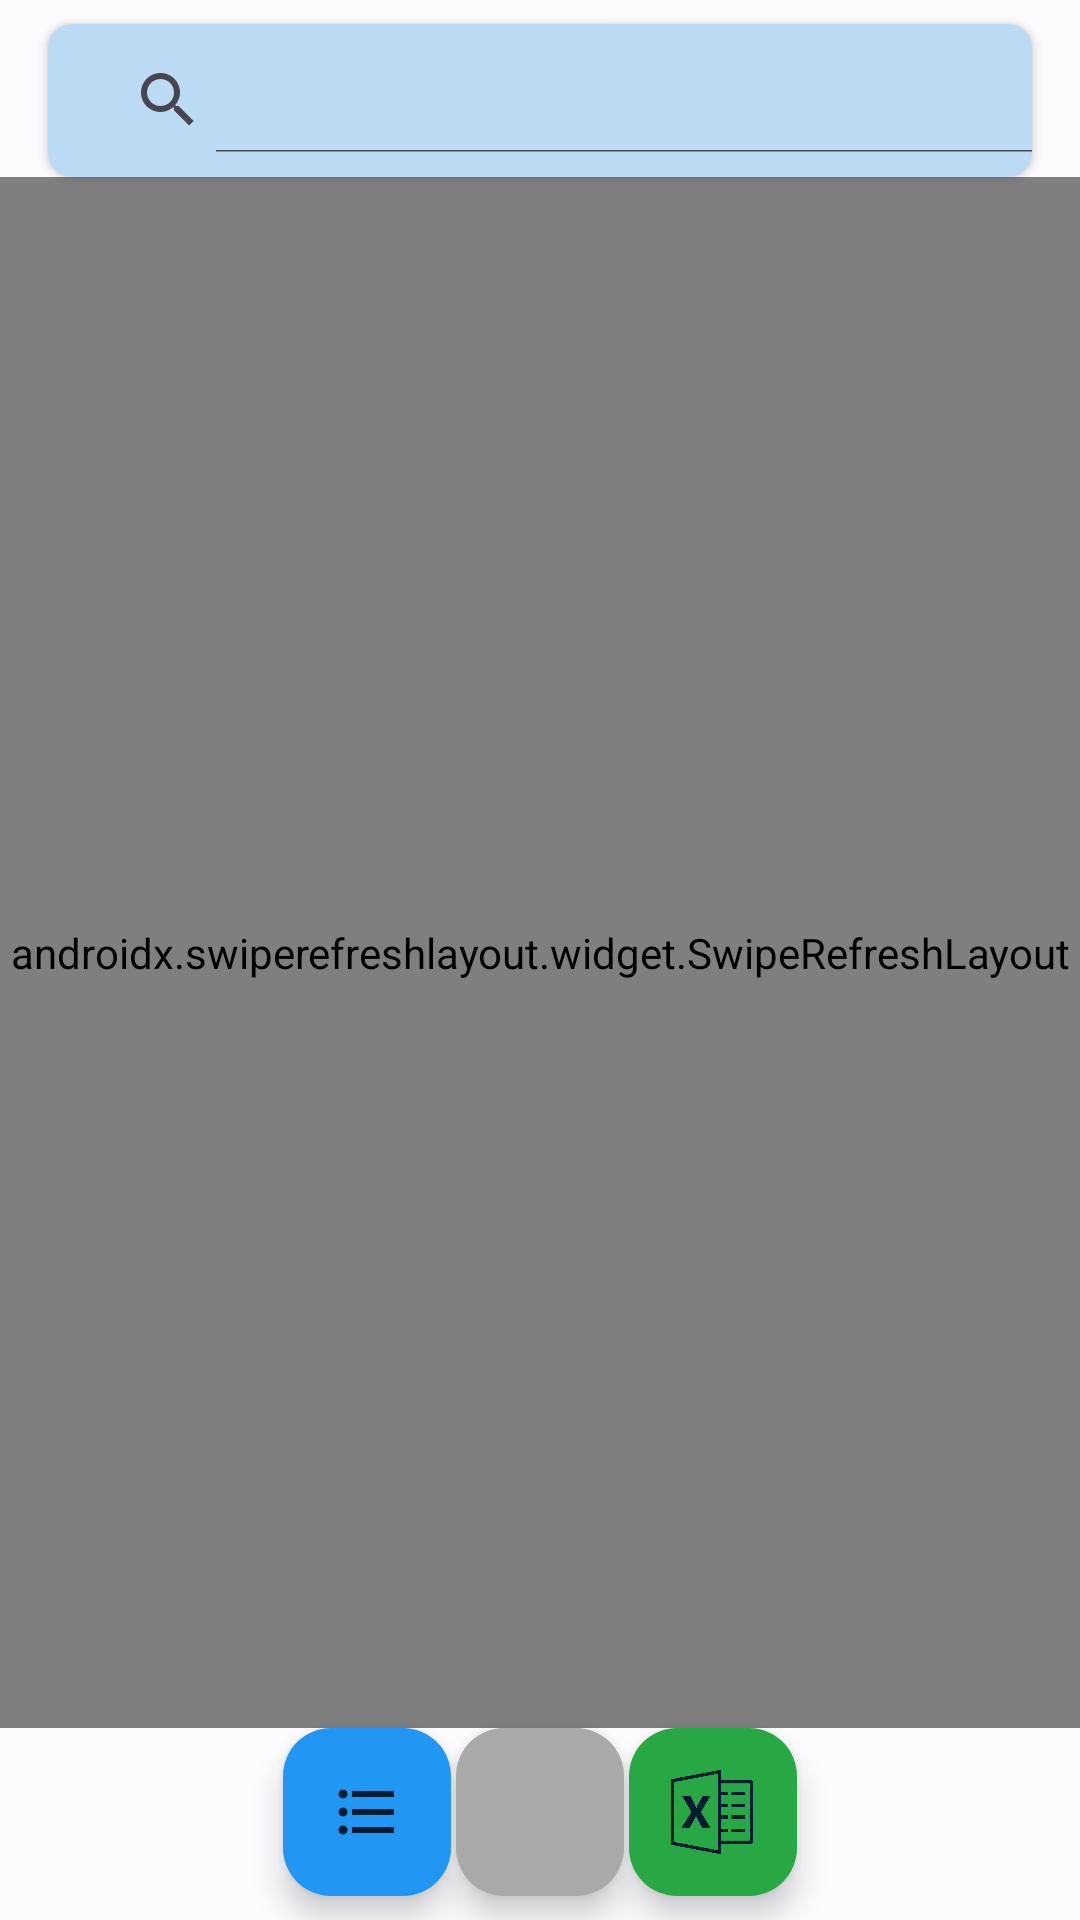

Named icons in this screenshot (1080×1920) and their centers, (x=x, y=y):
format list bulleted: (x=367, y=1812)
